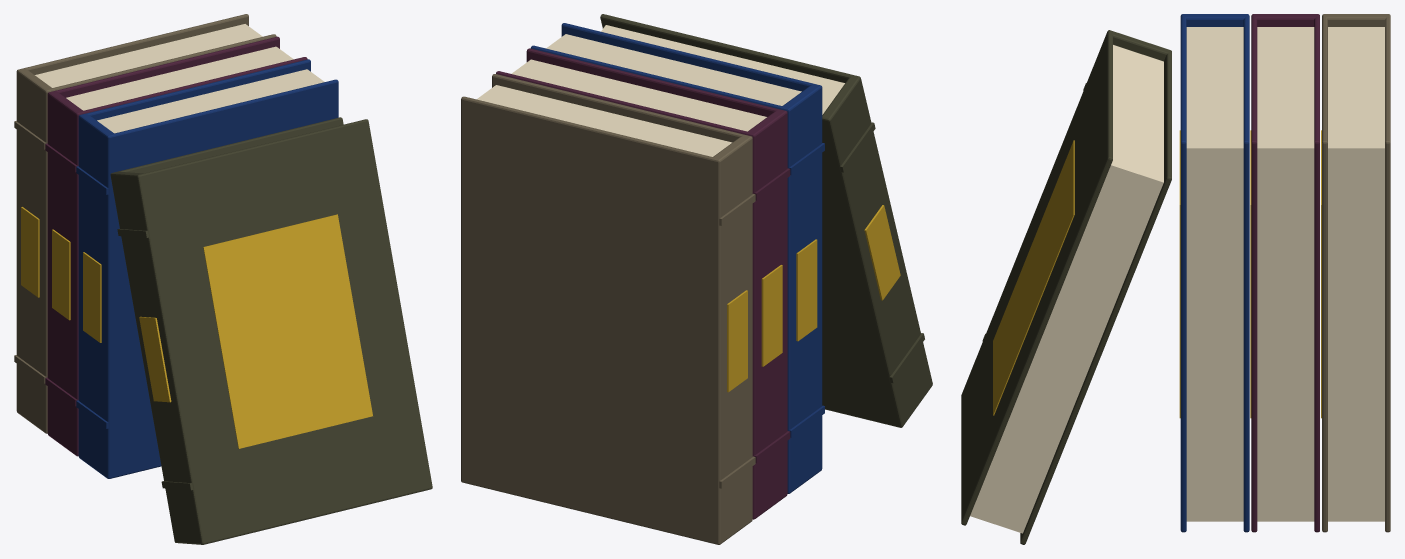
Rendered from Books5.fbx.
3 renders of one model, left to right at view 1: azimuth 30°, elevation 25°; view 2: azimuth 150°, elevation 25°; view 3: azimuth 270°, elevation 25°, orthographic. The views are drawn at different scales.
Visible parts, largest first — view 1: BookBridge.003; view 2: BookBridge.003; view 3: BookBridge.003.
Boxes of the visible parts, x1,y1,x2,y2 form: BookBridge.003: [14, 14, 432, 544]; BookBridge.003: [461, 14, 932, 544]; BookBridge.003: [961, 14, 1390, 544].
Bounding box in the file's own units: 15.77 × 22.78 × 21.89.
